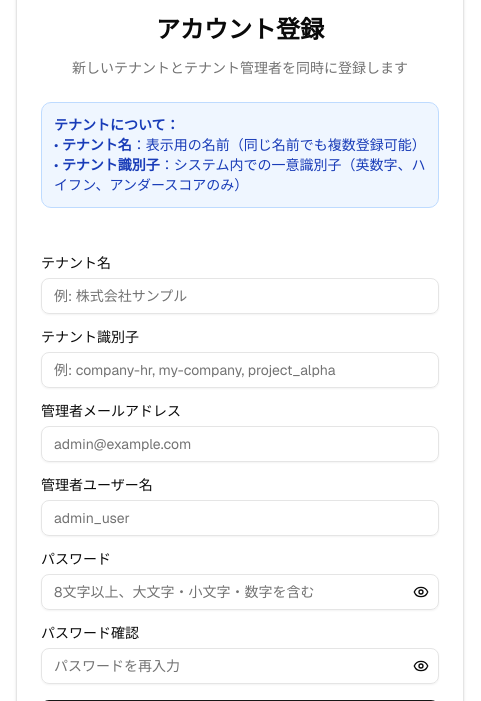
Test: TenantRegistrationForm › パスワード確認の一致チェック
This screenshot has width=481, height=701.
パスワードとパスワード確認を異なる値で入力
In the password field labelled "パスワード": (240, 592) [41,574,439,610], type "AdminPassword1"
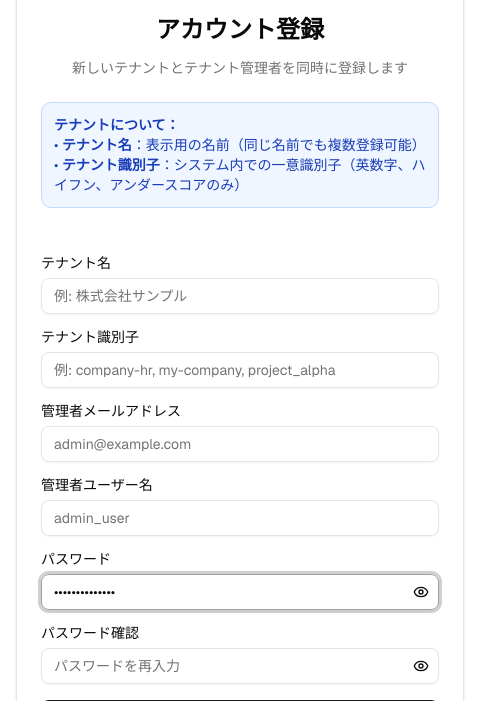
In the password field labelled "パスワード確認": (240, 666) [41,648,439,684], type "DifferentPassword1"
(page scrolled)
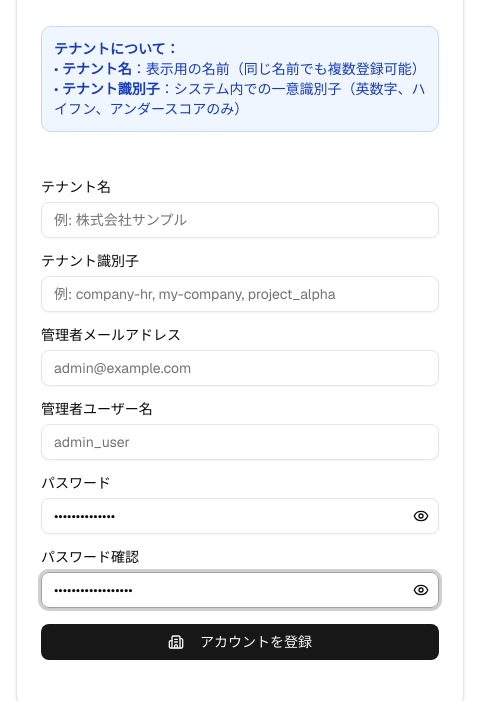
登録ボタンをクリック
Click the button "アカウントを登録": (240, 642) [41,624,439,660]
(page scrolled)
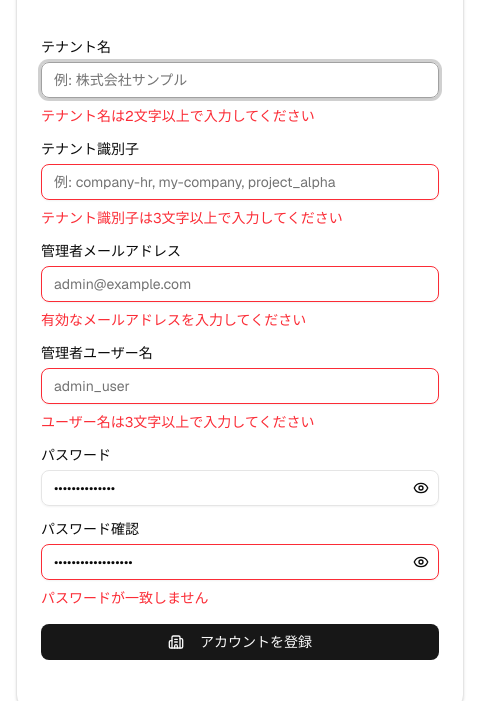
Expected: the text "パスワードが一致しません" is shown, [41,589,209,607]
